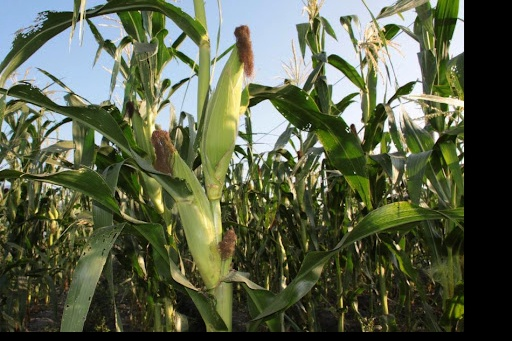corn_plant: (151, 131, 224, 291), (209, 24, 255, 201)
